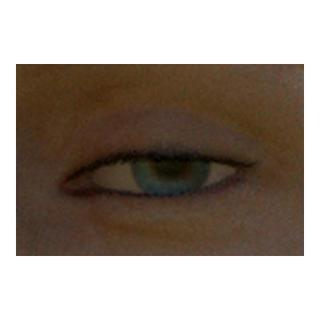pupil: (157, 147, 184, 174)
